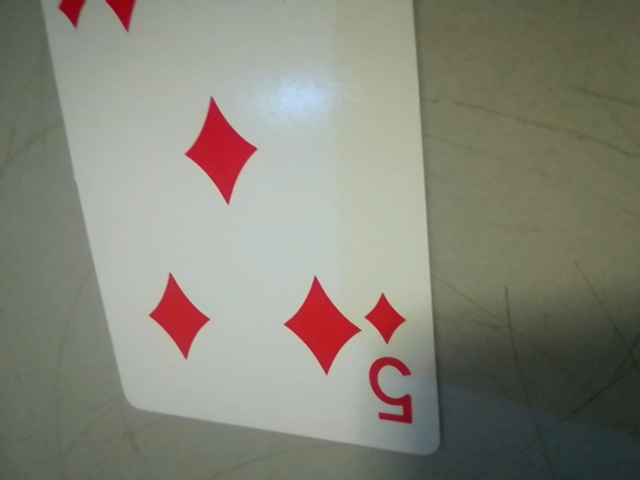fk 5: (355, 280, 429, 438)
